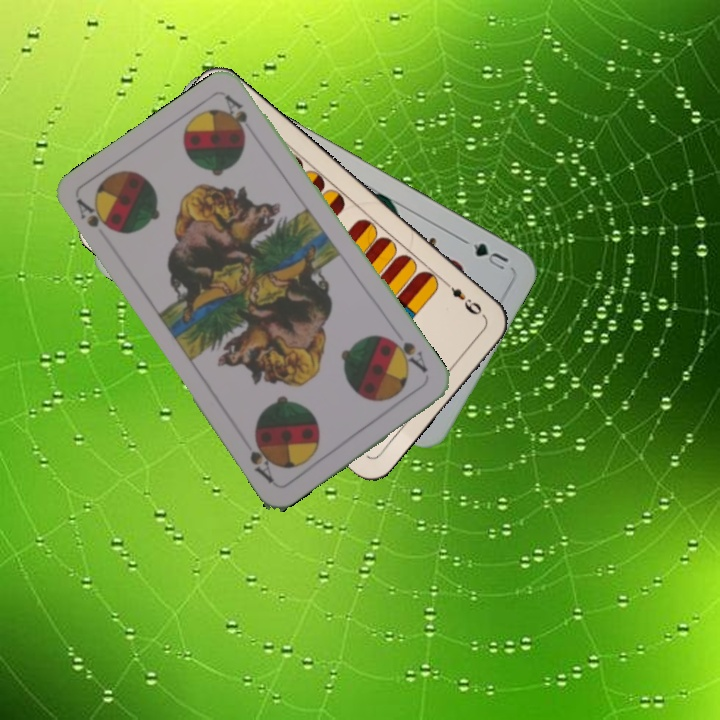E9: (439, 276, 485, 318)
GU: (459, 235, 511, 273)
SA: (385, 334, 430, 376), (72, 195, 117, 235)
